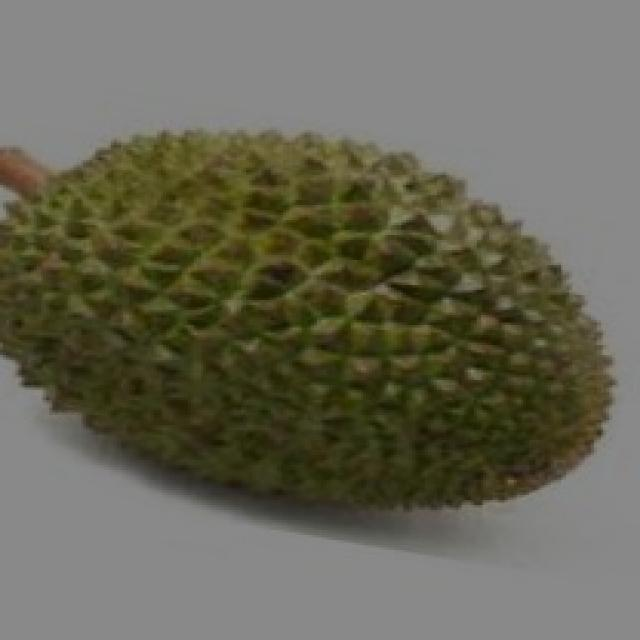fruit: (0, 98, 348, 548), (277, 142, 640, 560)
